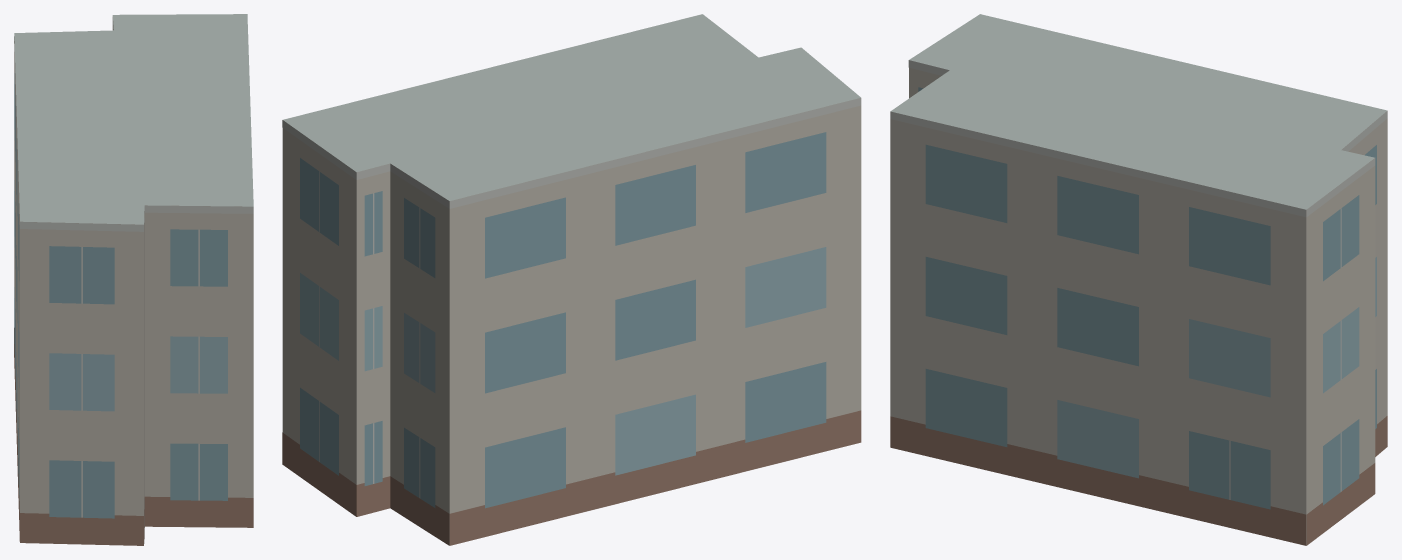
File: survey-upis-32505277.glb
3 renders of one model, left to right at view 1: azimuth 30°, elevation 25°; view 2: azimuth 150°, elevation 25°; view 3: azimuth 270°, elevation 25°, orthographic. The views are drawn at different scales.
Visible parts, largest first — view 1: survey-upis-32505277.tmp; view 2: survey-upis-32505277.tmp; view 3: survey-upis-32505277.tmp.
Boxes of the visible parts, <box> form: survey-upis-32505277.tmp: <box>14,14,253,545</box>; survey-upis-32505277.tmp: <box>282,14,861,545</box>; survey-upis-32505277.tmp: <box>890,14,1387,545</box>.
Bounding box in the file's own units: 13.5 × 10.8 × 14.49.
